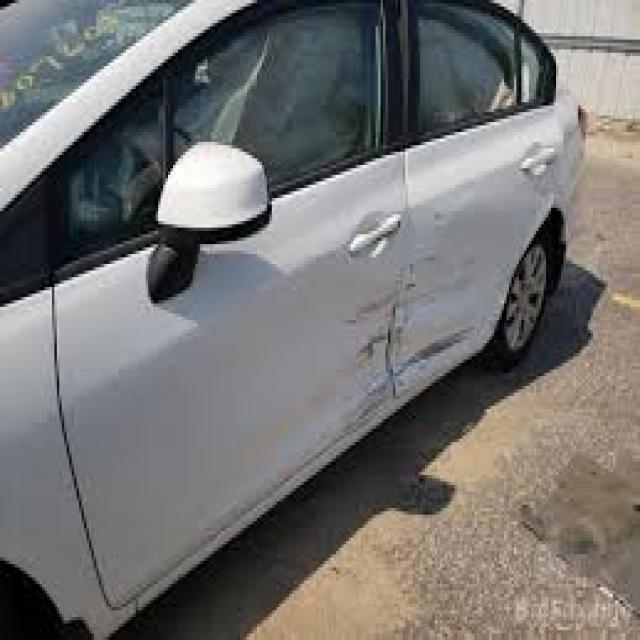damaged-door: (392, 0, 565, 397)
